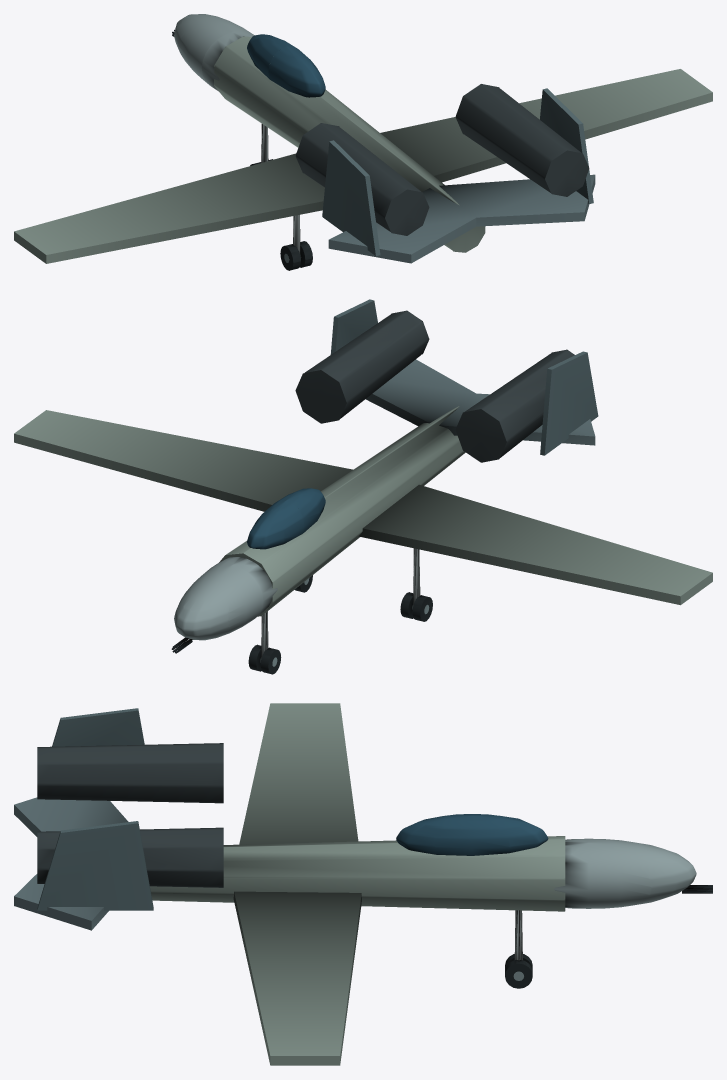
3 views of the same model, one above another, from view 1: azimuth 30°, elevation 25°; view 2: azimuth 150°, elevation 25°; view 3: azimuth 270°, elevation 25° (orthographic). The views are drawn at different scales.
Visible parts, largest first — view 1: wing.001, wing, fuselage, engine.001, engine, tailplane.001, tailplane, twin-fin, blunt-nose, canopy, twin-fin.001, landing-wheel; view 2: wing.001, wing, fuselage, engine.001, blunt-nose, engine, twin-fin, tailplane.001, canopy, twin-fin.001, tailplane; view 3: fuselage, wing, wing.001, engine, twin-fin.001, blunt-nose, engine.001, canopy, tailplane, twin-fin, tailplane.001, landing-wheel.005.
Part boxes in pixels (x1,y1,x2,y2): wing.001: (14, 153, 324, 263); wing: (380, 69, 712, 182); fuselage: (214, 36, 485, 252); engine.001: (455, 84, 589, 196); engine: (295, 123, 429, 235); tailplane.001: (439, 174, 595, 226); tailplane: (328, 188, 476, 263); twin-fin: (322, 140, 380, 255); blunt-nose: (174, 14, 254, 91); canopy: (247, 34, 325, 97); twin-fin.001: (540, 88, 593, 203); landing-wheel: (280, 244, 300, 270); wing.001: (358, 484, 712, 605); wing: (14, 410, 352, 511); fuselage: (219, 406, 465, 616); engine.001: (295, 310, 429, 423); blunt-nose: (174, 557, 277, 640); engine: (455, 349, 574, 462); twin-fin: (540, 351, 598, 455); tailplane.001: (365, 359, 475, 426); canopy: (247, 488, 325, 549); twin-fin.001: (330, 299, 377, 354); tailplane: (439, 393, 595, 445); fuselage: (150, 836, 565, 911); wing: (233, 891, 361, 1065); wing.001: (239, 703, 358, 844); engine: (37, 743, 223, 803); twin-fin.001: (37, 821, 153, 910); blunt-nose: (554, 838, 696, 908); engine.001: (37, 827, 223, 887); canopy: (396, 814, 548, 855); tailplane: (14, 797, 128, 836); twin-fin: (52, 708, 144, 746); tailplane.001: (14, 874, 108, 930); landing-wheel.005: (505, 960, 532, 988).
Size of the model in its own units: 17.5 by 5.02 by 14.67.
